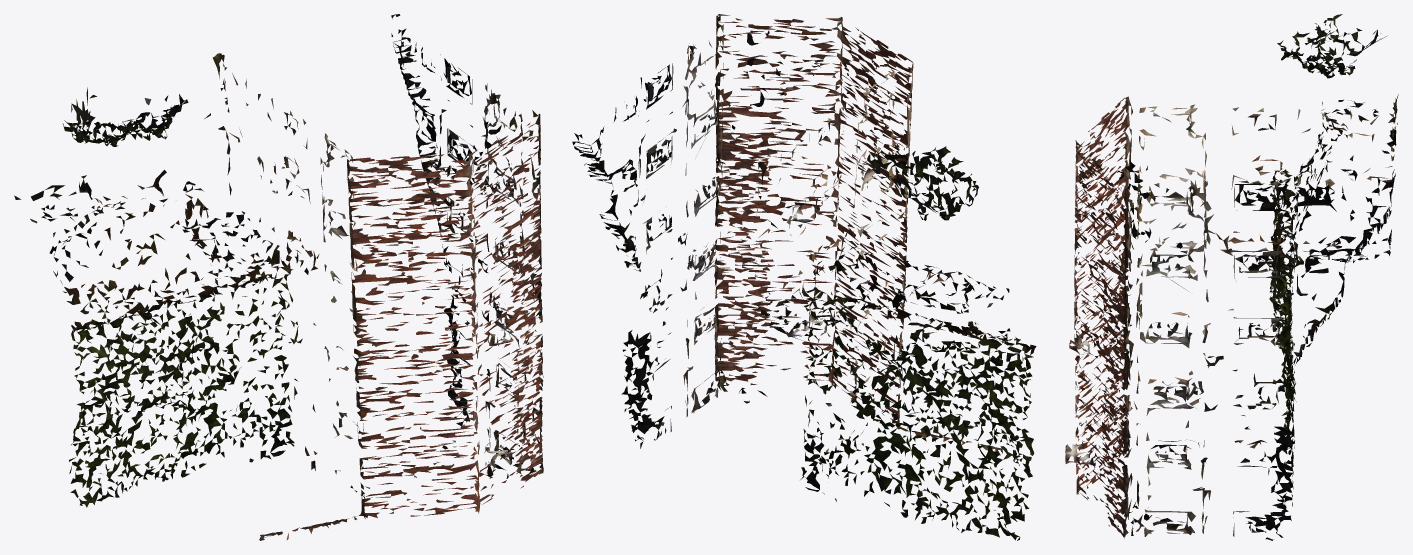
3 views of the same model, side by side, from view 1: azimuth 30°, elevation 25°; view 2: azimuth 150°, elevation 25°; view 3: azimuth 270°, elevation 25° (orthographic). The views are drawn at different scales.
Size of the model in its own units: 24.96 by 22.26 by 18.72.
Materials: 1 (1 with a texture image).
